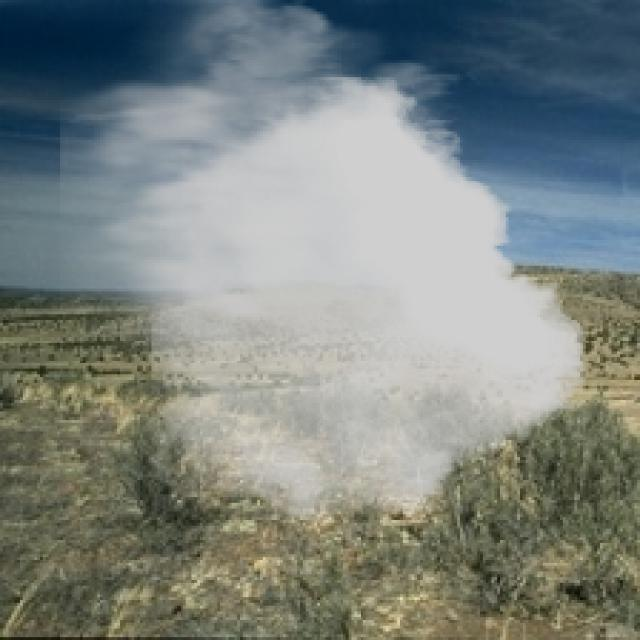Smoke: (60, 0, 586, 523)
